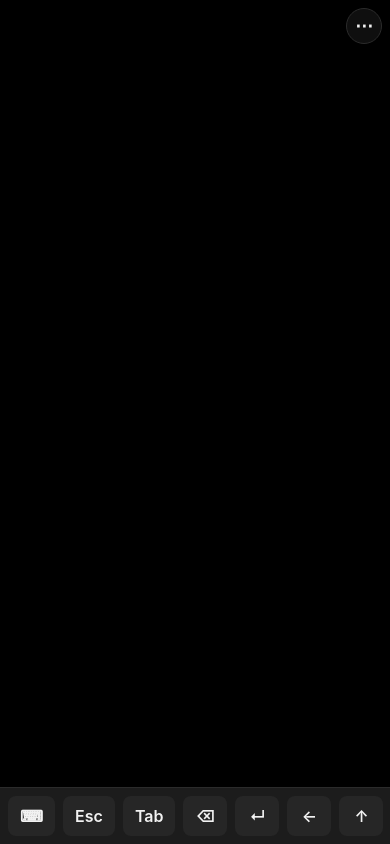
Test case: RemoteScreen › the stats overlay › leaves out the WebRTC-only rows on the tile fallback
Step 1. Click the text "⋯" → (364, 26), box [355, 16, 373, 36]
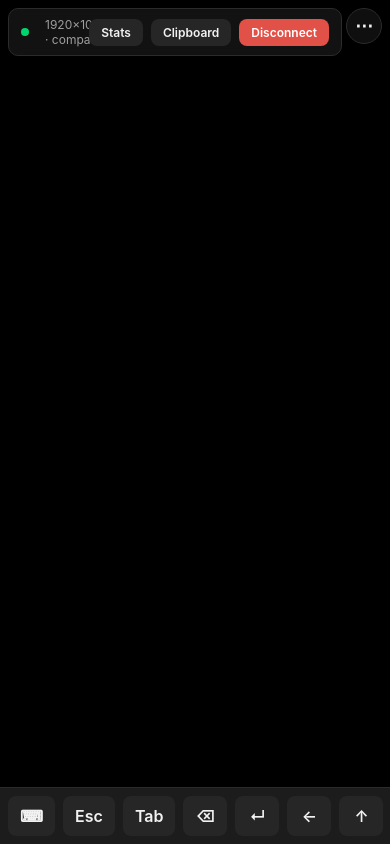
Step 2. Click the text "Stats" → (116, 32), box [101, 24, 131, 40]
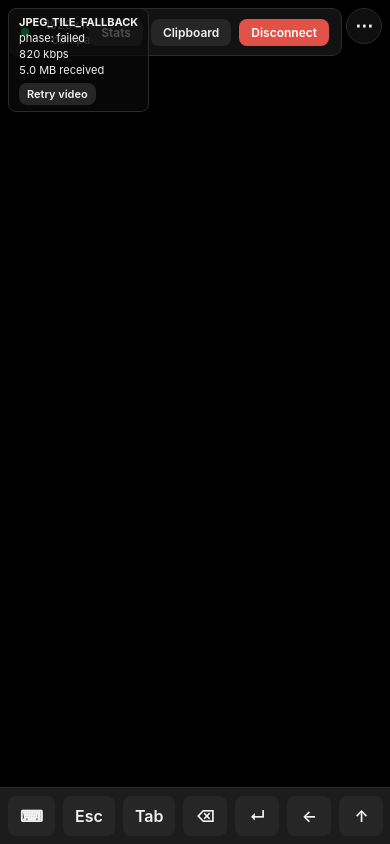
Now the text "JPEG_TILE_FALLBACK" is shown, box [19, 15, 138, 29]
Now the text "phase: failed" is shown, box [19, 31, 85, 45]
